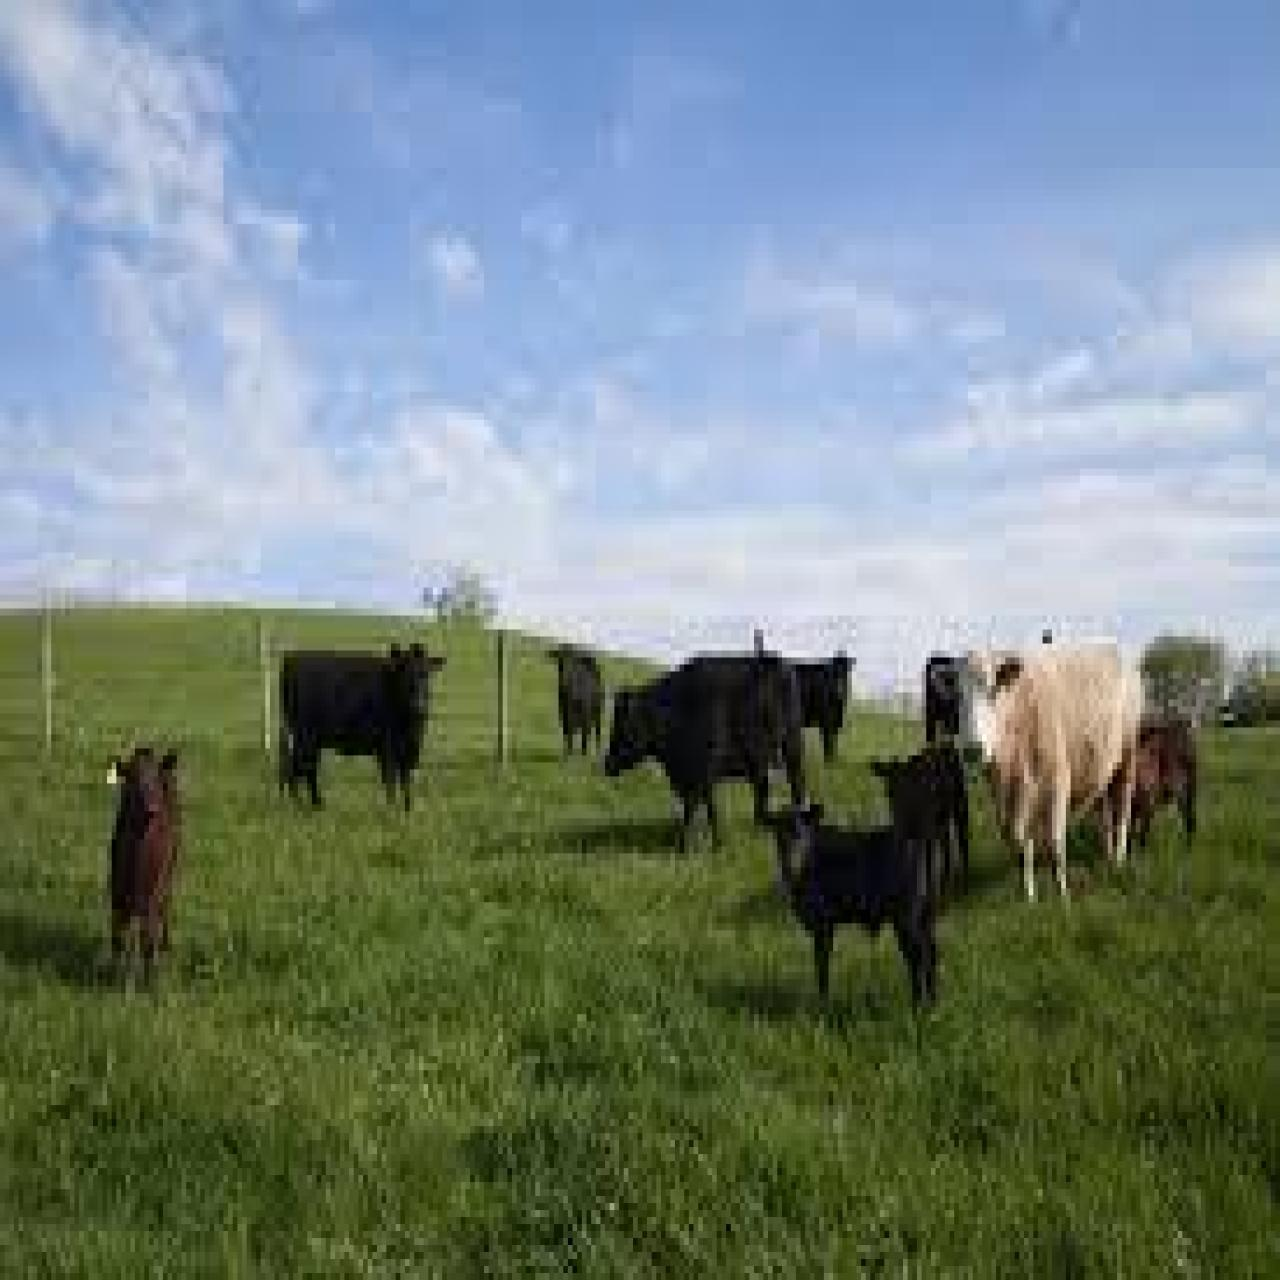cow: (933, 633, 1148, 906), (607, 651, 808, 860), (756, 797, 947, 1014), (284, 644, 447, 825), (102, 738, 182, 1005), (870, 749, 973, 888), (1124, 710, 1203, 857), (545, 636, 605, 763)
